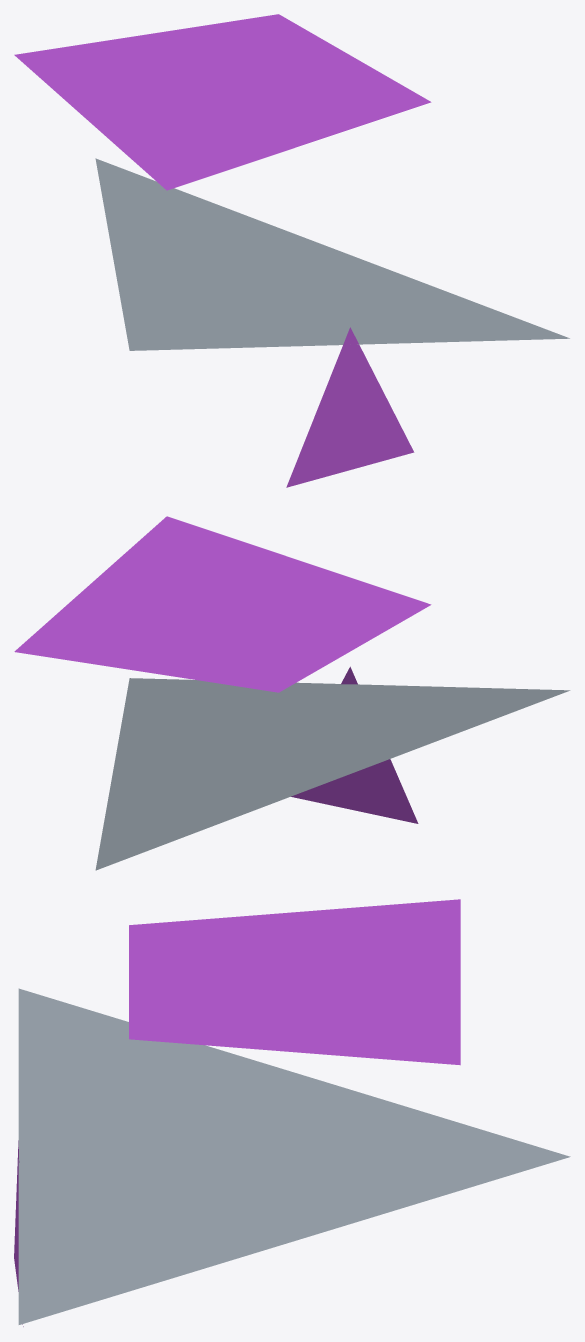
Rendered from CH_EchoTurret_LOD2.glb.
The picture shows the model from 3 angles, top to bottom: view 1: azimuth 30°, elevation 25°; view 2: azimuth 150°, elevation 25°; view 3: azimuth 270°, elevation 25°; orthographic projection. The views are drawn at different scales.
Parts seen in each view (by area): view 1: EntranceGate; view 2: EntranceGate; view 3: EntranceGate.
Part boxes in pixels (x1=…): EntranceGate: x1=14, y1=14, x2=569, y2=487; EntranceGate: x1=14, y1=516, x2=570, y2=870; EntranceGate: x1=14, y1=899, x2=570, y2=1326.
Bounding box in the file's own units: 400 × 258 × 403.
